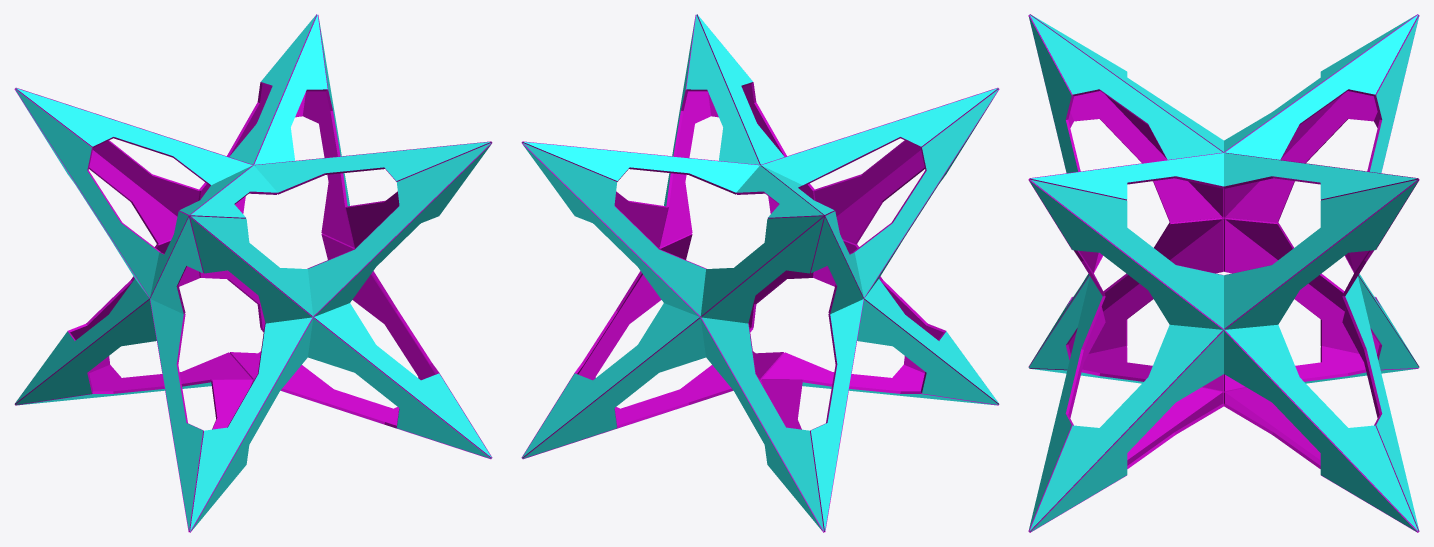
File: GreatDisdyakisDodecahedronS.glb
3 renders of one model, left to right at view 1: azimuth 30°, elevation 25°; view 2: azimuth 150°, elevation 25°; view 3: azimuth 270°, elevation 25°, orthographic. The views are drawn at different scales.
Visible parts, largest first — view 1: Mesh_0009_1, Mesh_0009; view 2: Mesh_0009_1, Mesh_0009; view 3: Mesh_0009_1, Mesh_0009.
Part boxes in pixels (x1,y1,x2,y2): Mesh_0009_1: [15, 14, 491, 531]; Mesh_0009: [14, 14, 492, 532]; Mesh_0009_1: [522, 14, 998, 531]; Mesh_0009: [521, 14, 999, 532]; Mesh_0009_1: [1028, 14, 1419, 531]; Mesh_0009: [1028, 14, 1419, 532].
Bounding box in the file's own units: 6.53 × 6.53 × 6.53.
